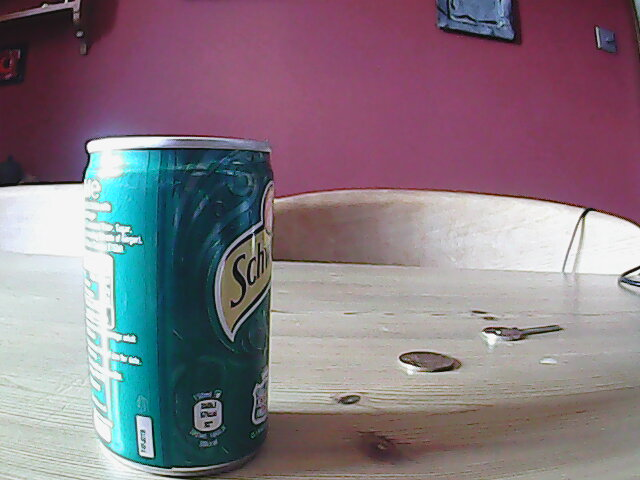Can: (79, 136, 279, 478)
Coin: (397, 349, 459, 373)
Key: (480, 322, 563, 345)
